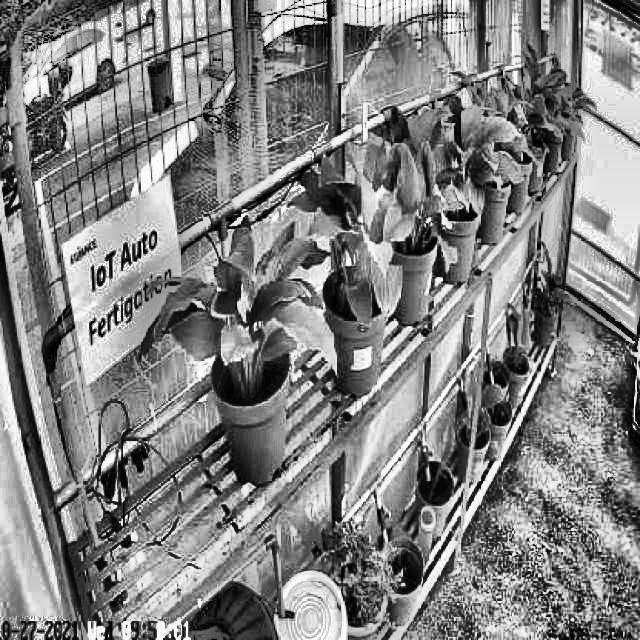plants: (138, 214, 338, 392), (298, 162, 404, 326), (363, 111, 459, 271), (416, 95, 526, 217)
